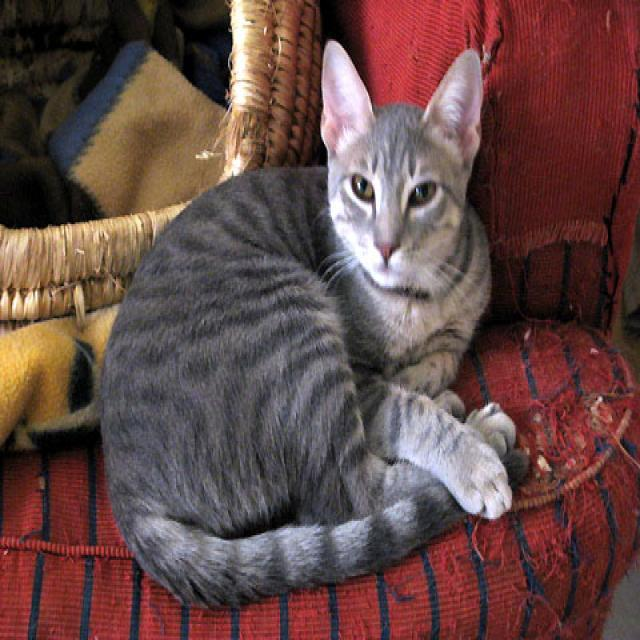Egyptian_Mau: (319, 36, 481, 286)
